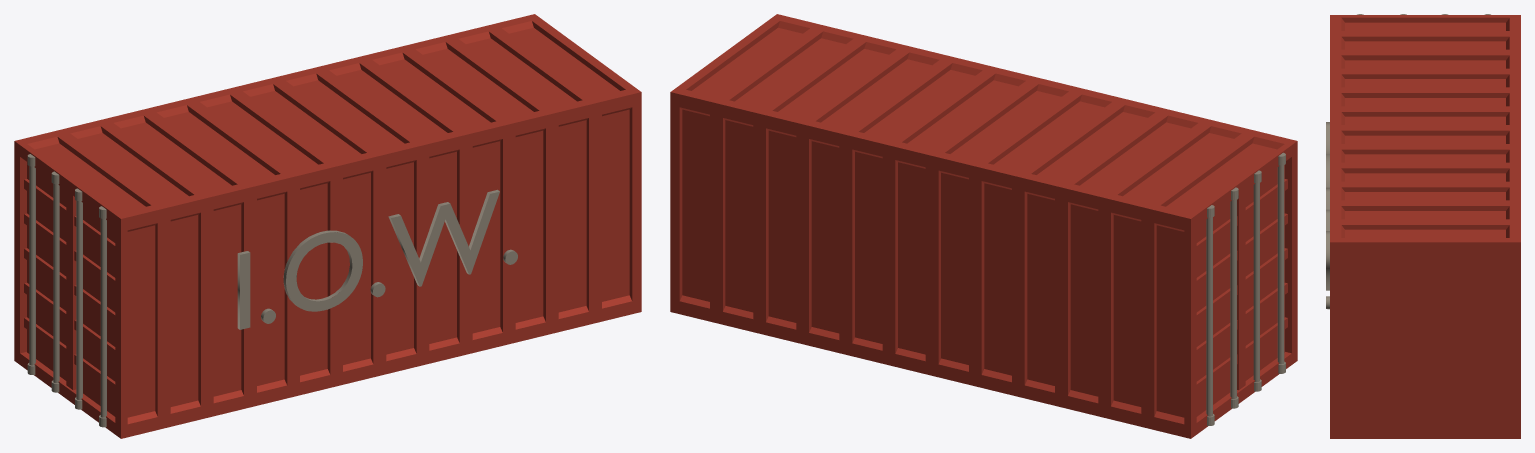
The model's file is IOWShippingCont.fbx.
3 views of the same model, side by side, from view 1: azimuth 30°, elevation 25°; view 2: azimuth 150°, elevation 25°; view 3: azimuth 270°, elevation 25° (orthographic). The views are drawn at different scales.
Visible parts, largest first — view 1: ShippingContainer_LOD0; view 2: ShippingContainer_LOD0; view 3: ShippingContainer_LOD0.
Boxes of the visible parts, <box> form: ShippingContainer_LOD0: <box>14,14,641,438</box>; ShippingContainer_LOD0: <box>670,14,1297,438</box>; ShippingContainer_LOD0: <box>1326,14,1520,438</box>.
Size of what is drawn, in the model's own units: 500 by 200 by 180.
